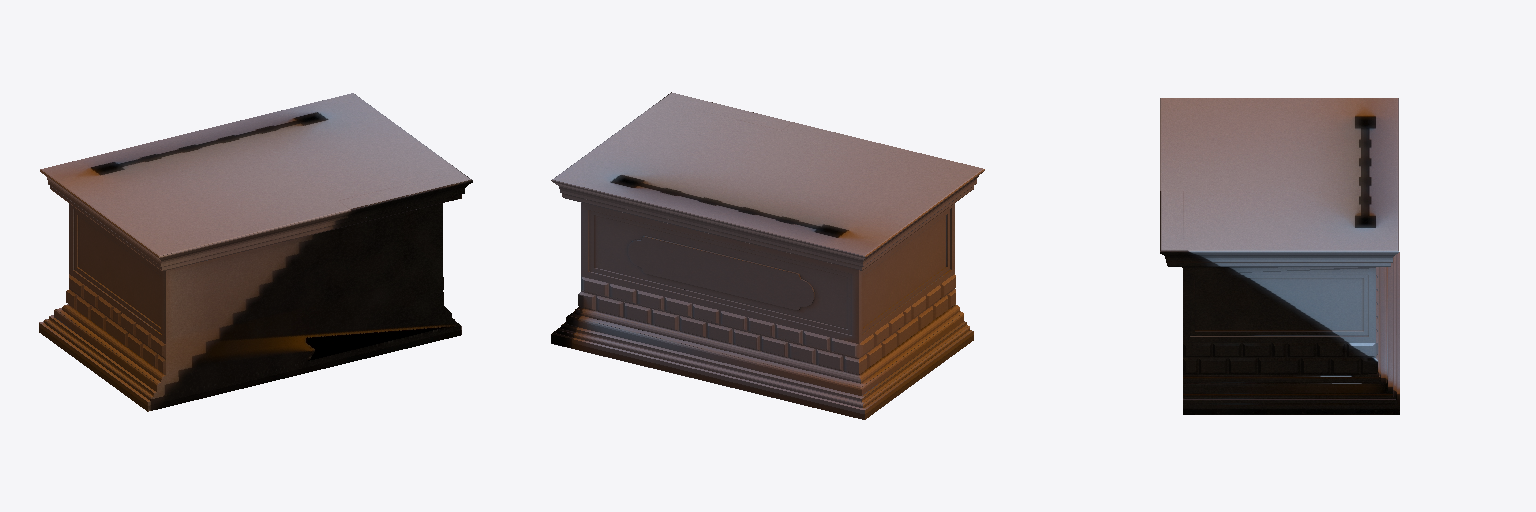
3 renders of one model, left to right at view 1: azimuth 30°, elevation 25°; view 2: azimuth 150°, elevation 25°; view 3: azimuth 270°, elevation 25°, orthographic.
Parts seen in each view (by area): view 1: Podest_02_HR_v02; view 2: Podest_02_HR_v02; view 3: Podest_02_HR_v02.
Part boxes in pixels (x1,y1,x2,y2): Podest_02_HR_v02: (39, 93, 472, 411); Podest_02_HR_v02: (551, 92, 984, 419); Podest_02_HR_v02: (1160, 98, 1399, 414).
Bounding box in the file's own units: 6.02 × 3 × 3.99.
Materials: 1 (1 with a texture image).